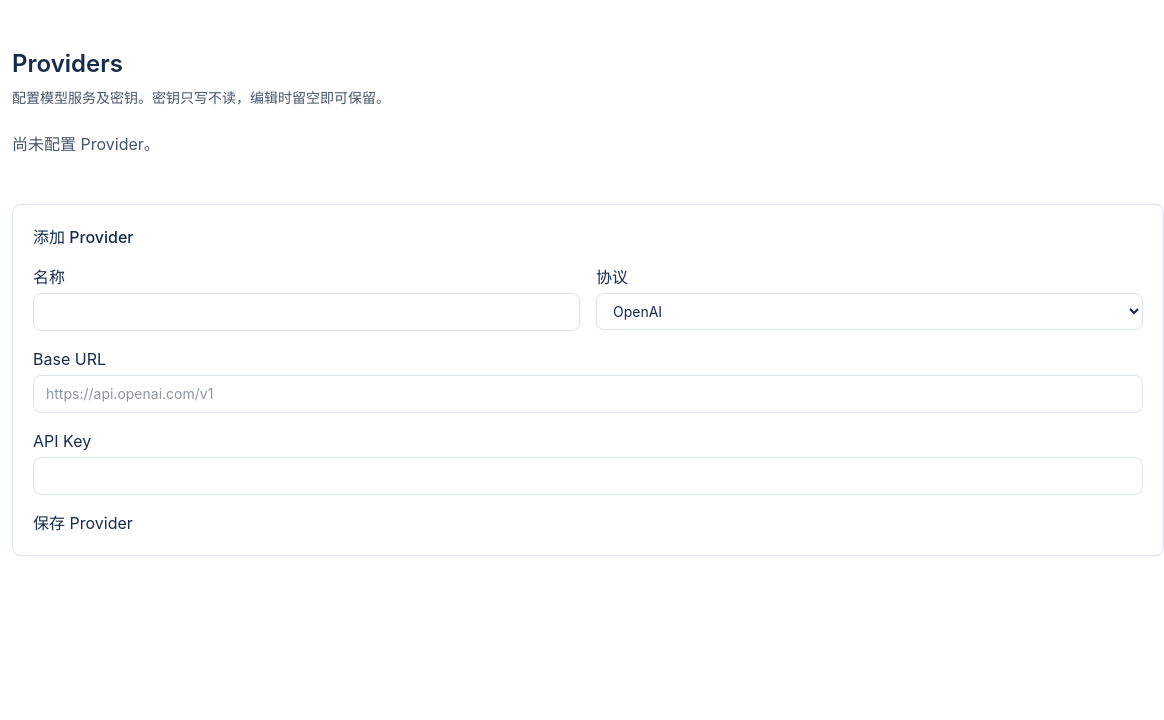
Providers › validates a new Provider with the shared schema before writing
This screenshot has width=1164, height=720.
Click the button "保存 Provider" at (83, 523), box [33,511,133,535]
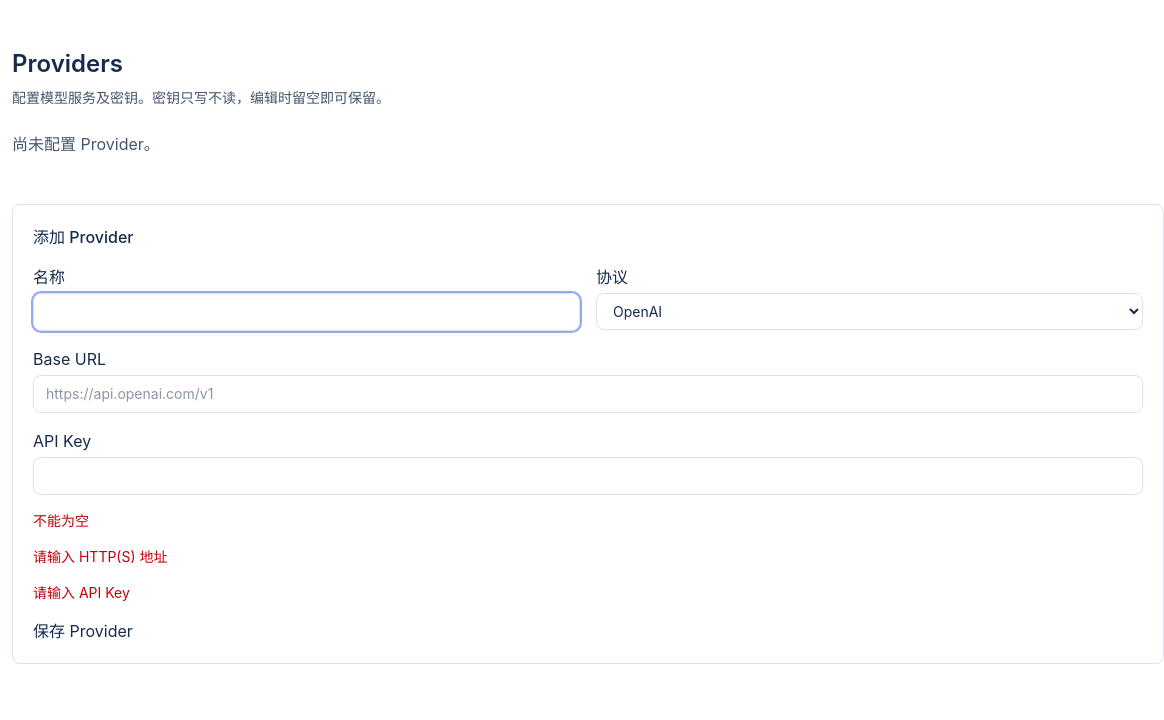
Check: the number of messages is 3, box [33,512,89,529]; [33,548,168,565]; [33,584,130,601]
